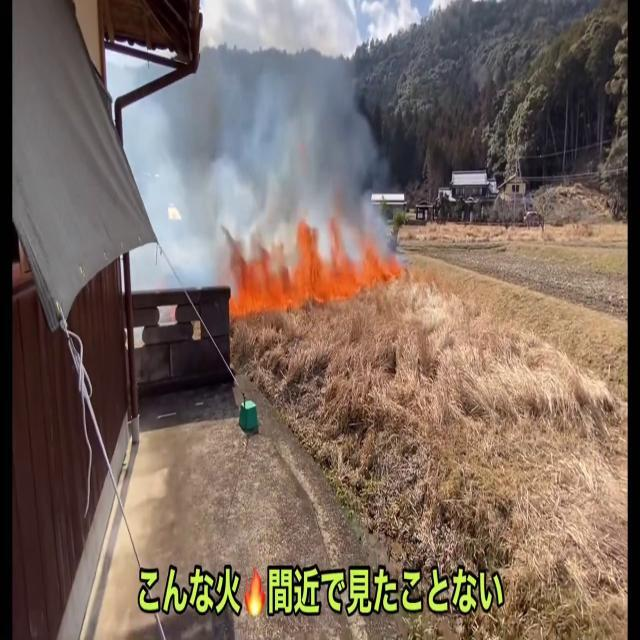Fire: (227, 205, 396, 318)
Smoke: (174, 0, 396, 257)
